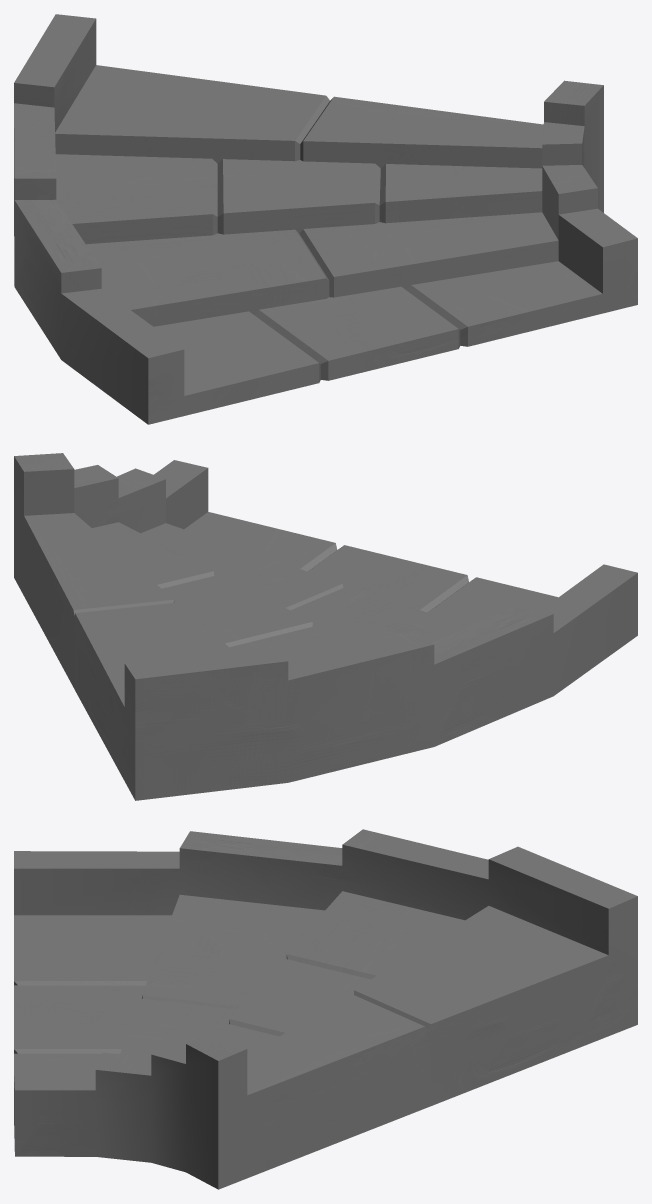
The model's file is Steps.FBX.
3 views of the same model, one above another, from view 1: azimuth 30°, elevation 25°; view 2: azimuth 150°, elevation 25°; view 3: azimuth 270°, elevation 25° (orthographic). The views are drawn at different scales.
Parts seen in each view (by area): view 1: Steps; view 2: Steps; view 3: Steps.
Part boxes in pixels (x1,y1,x2,y2): Steps: [14, 14, 637, 424]; Steps: [14, 453, 637, 800]; Steps: [14, 829, 637, 1189].
Bounding box in the file's own units: 13.15 × 2.9 × 12.74.
